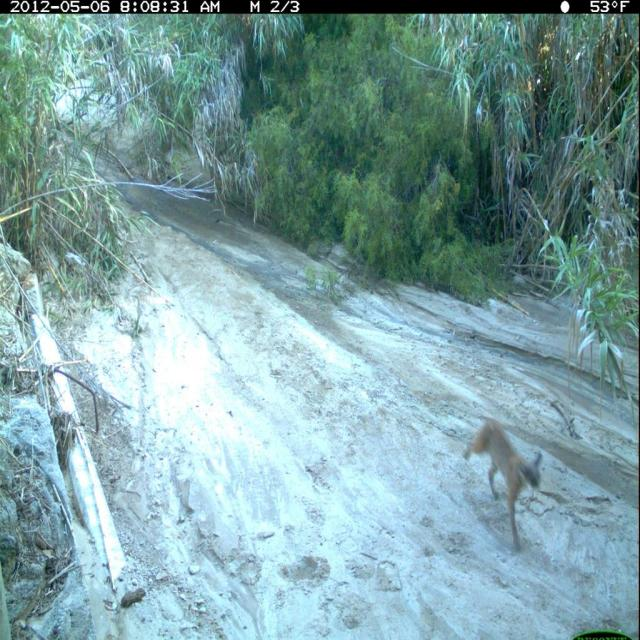bobcat: (460, 414, 545, 556)
